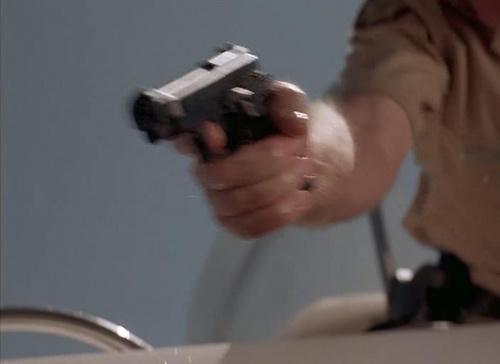Gun: (129, 41, 279, 165)
